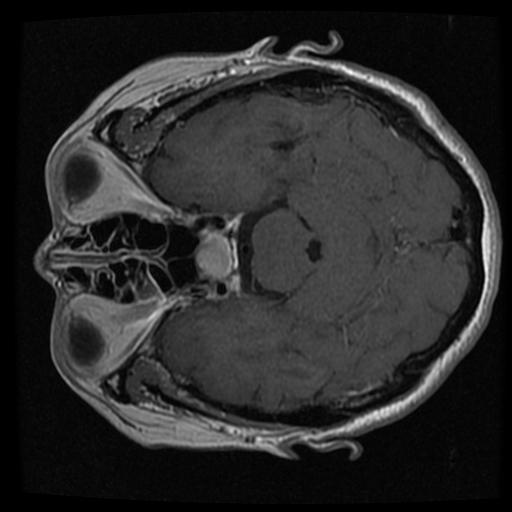pituitary tumour: (195, 232, 232, 279)
